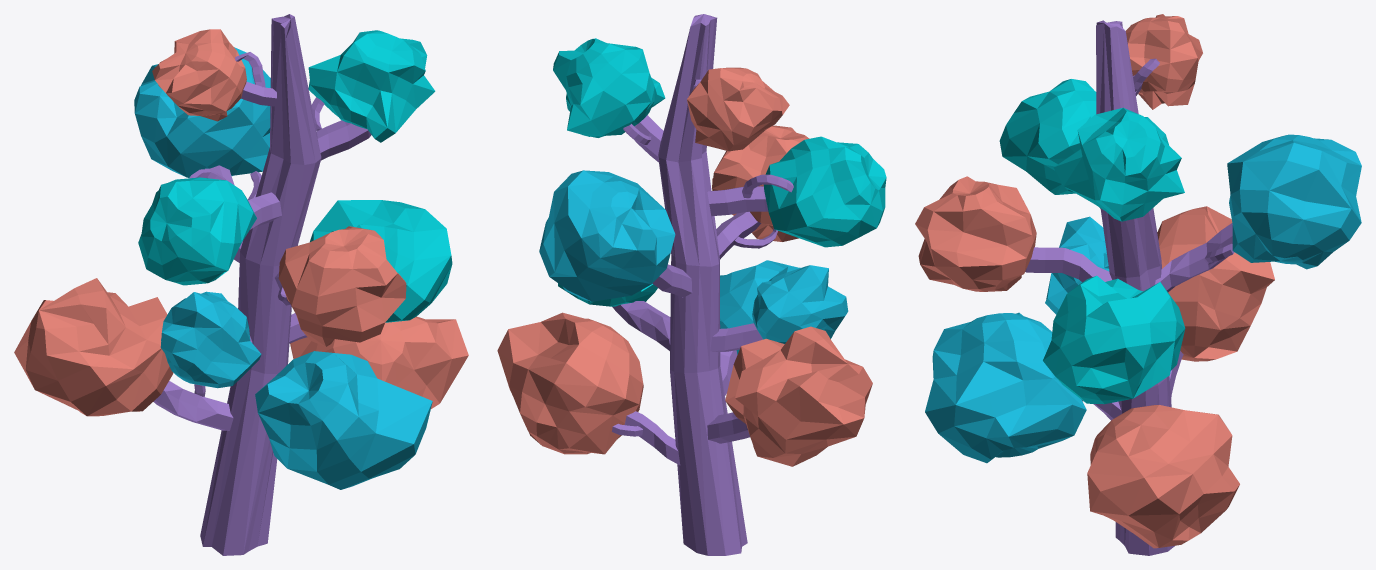
The model's file is Round_Tree.fbx.
3 views of the same model, side by side, from view 1: azimuth 30°, elevation 25°; view 2: azimuth 150°, elevation 25°; view 3: azimuth 270°, elevation 25° (orthographic). The views are drawn at different scales.
Visible parts, largest first — view 1: mesh2143310007; view 2: mesh2143310007; view 3: mesh2143310007.
Boxes of the visible parts, <box> form: mesh2143310007: <box>14,14,468,555</box>; mesh2143310007: <box>497,14,886,555</box>; mesh2143310007: <box>915,14,1361,555</box>.
Size of the model in its own units: 1.24 by 1.55 by 1.17.
